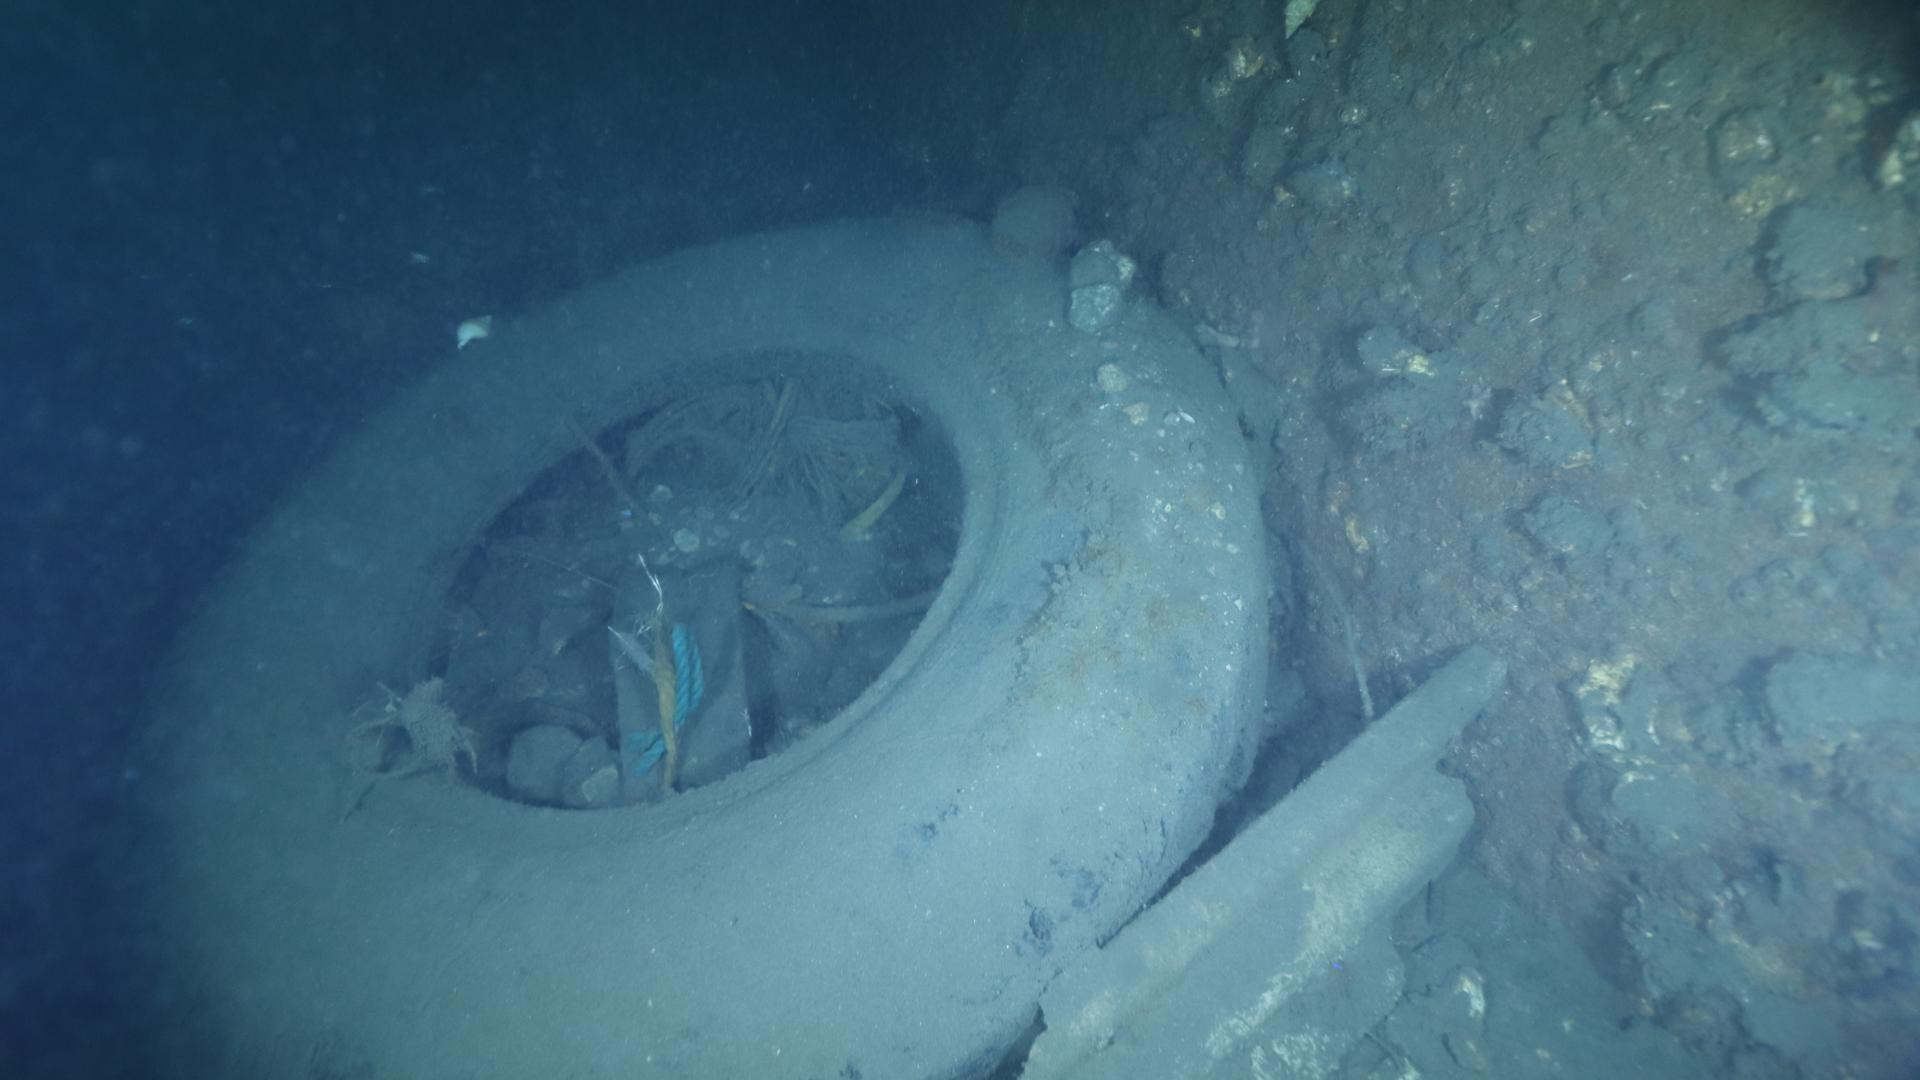tire: (129, 214, 1275, 1080)
